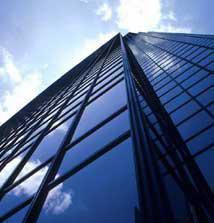building: (0, 32, 214, 223)
